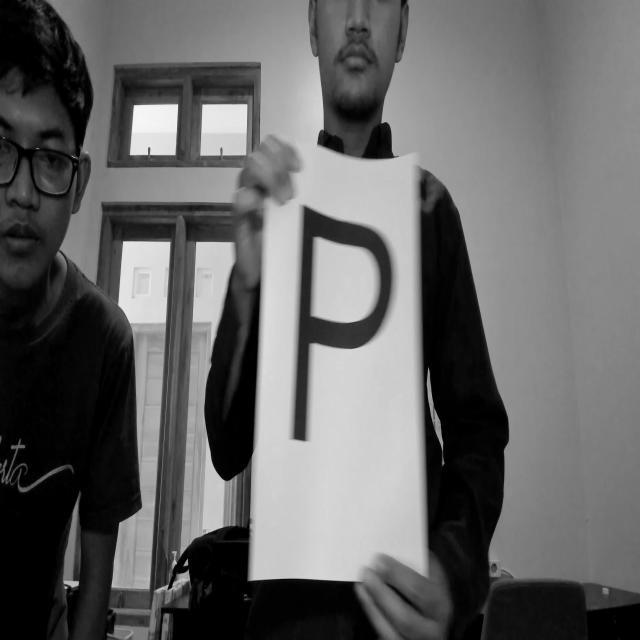p: (284, 192, 398, 452)
